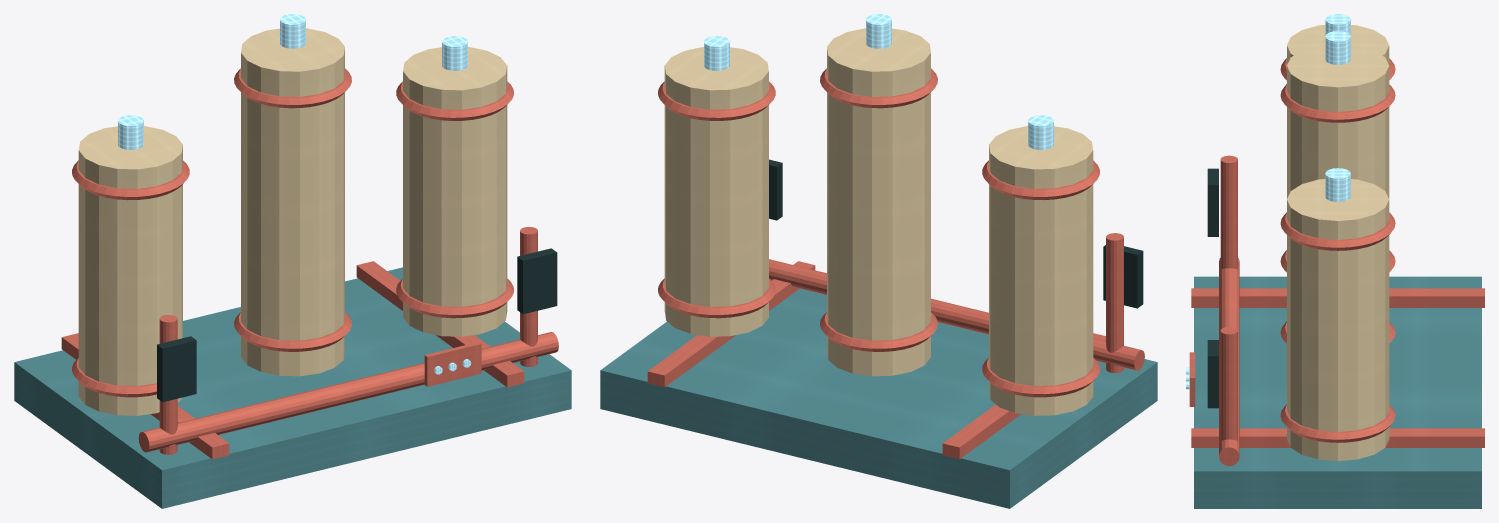
The model's file is atlas100-s073-a02.glb.
3 renders of one model, left to right at view 1: azimuth 30°, elevation 25°; view 2: azimuth 150°, elevation 25°; view 3: azimuth 270°, elevation 25°, orthographic. The views are drawn at different scales.
Parts seen in each view (by area): view 1: atlas100-s073-a02:part-000, atlas100-s073-a02:part-007, atlas100-s073-a02:part-011, atlas100-s073-a02:part-003, atlas100-s073-a02:part-019, atlas100-s073-a02:part-018, atlas100-s073-a02:part-016, atlas100-s073-a02:part-002, atlas100-s073-a02:part-020, atlas100-s073-a02:part-008, atlas100-s073-a02:part-013, atlas100-s073-a02:part-009 (+9 smaller); view 2: atlas100-s073-a02:part-000, atlas100-s073-a02:part-007, atlas100-s073-a02:part-003, atlas100-s073-a02:part-011, atlas100-s073-a02:part-019, atlas100-s073-a02:part-002, atlas100-s073-a02:part-015, atlas100-s073-a02:part-001, atlas100-s073-a02:part-008, atlas100-s073-a02:part-013, atlas100-s073-a02:part-009, atlas100-s073-a02:part-005 (+7 smaller); view 3: atlas100-s073-a02:part-000, atlas100-s073-a02:part-011, atlas100-s073-a02:part-007, atlas100-s073-a02:part-002, atlas100-s073-a02:part-001, atlas100-s073-a02:part-019, atlas100-s073-a02:part-015, atlas100-s073-a02:part-017, atlas100-s073-a02:part-003, atlas100-s073-a02:part-009, atlas100-s073-a02:part-013, atlas100-s073-a02:part-012 (+6 smaller).
Boxes of the visible parts, x1,y1,x2,y2 form: atlas100-s073-a02:part-000: (14,267,571,508); atlas100-s073-a02:part-007: (241,28,344,376); atlas100-s073-a02:part-011: (403,47,507,336); atlas100-s073-a02:part-003: (78,126,182,415); atlas100-s073-a02:part-019: (138,332,558,452); atlas100-s073-a02:part-018: (517,248,557,314); atlas100-s073-a02:part-016: (157,336,196,402); atlas100-s073-a02:part-002: (356,261,524,387); atlas100-s073-a02:part-020: (424,342,481,386); atlas100-s073-a02:part-008: (234,312,351,351); atlas100-s073-a02:part-013: (396,81,513,120); atlas100-s073-a02:part-009: (234,68,351,108); atlas100-s073-a02:part-000: (600,288,1157,508); atlas100-s073-a02:part-007: (827,28,930,376); atlas100-s073-a02:part-003: (989,126,1093,415); atlas100-s073-a02:part-011: (664,47,768,336); atlas100-s073-a02:part-019: (769,259,1144,370); atlas100-s073-a02:part-002: (647,261,815,387); atlas100-s073-a02:part-015: (1106,233,1123,372); atlas100-s073-a02:part-001: (942,333,1105,459); atlas100-s073-a02:part-008: (820,312,937,351); atlas100-s073-a02:part-013: (658,81,775,120); atlas100-s073-a02:part-009: (820,68,937,108); atlas100-s073-a02:part-005: (982,160,1099,200); atlas100-s073-a02:part-000: (1194,276,1481,508); atlas100-s073-a02:part-011: (1287,179,1389,460); atlas100-s073-a02:part-007: (1287,45,1389,198); atlas100-s073-a02:part-002: (1191,428,1484,447); atlas100-s073-a02:part-001: (1191,288,1484,307); atlas100-s073-a02:part-019: (1219,258,1239,466); atlas100-s073-a02:part-015: (1220,155,1237,269); atlas100-s073-a02:part-017: (1220,327,1237,440); atlas100-s073-a02:part-003: (1287,25,1389,64); atlas100-s073-a02:part-009: (1280,84,1395,122); atlas100-s073-a02:part-013: (1280,212,1395,250); atlas100-s073-a02:part-012: (1280,404,1395,442).
Bounding box in the file's own units: 3 × 2.59 × 1.87.
5 materials, 5 textured.
